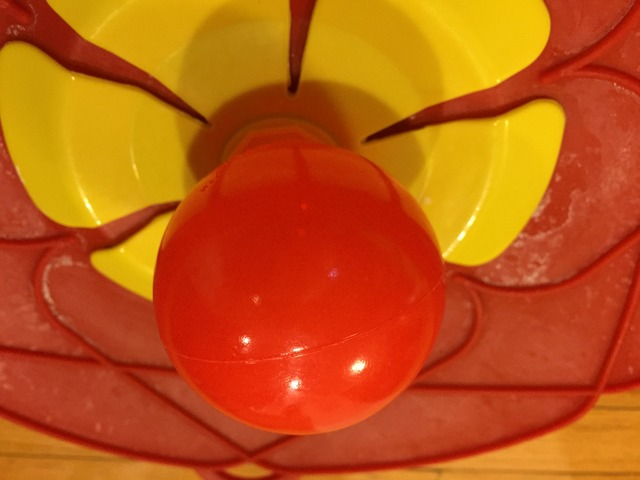Ball: (153, 141, 447, 435)
